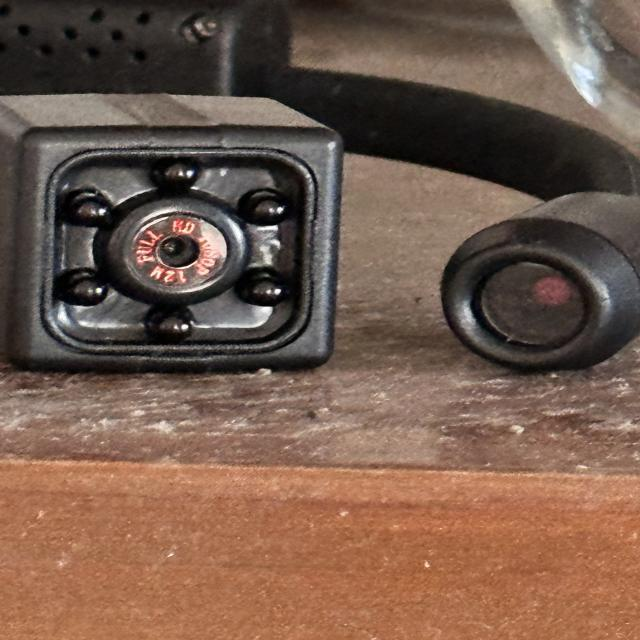hidden camera: (436, 238, 607, 375), (127, 209, 233, 296)
